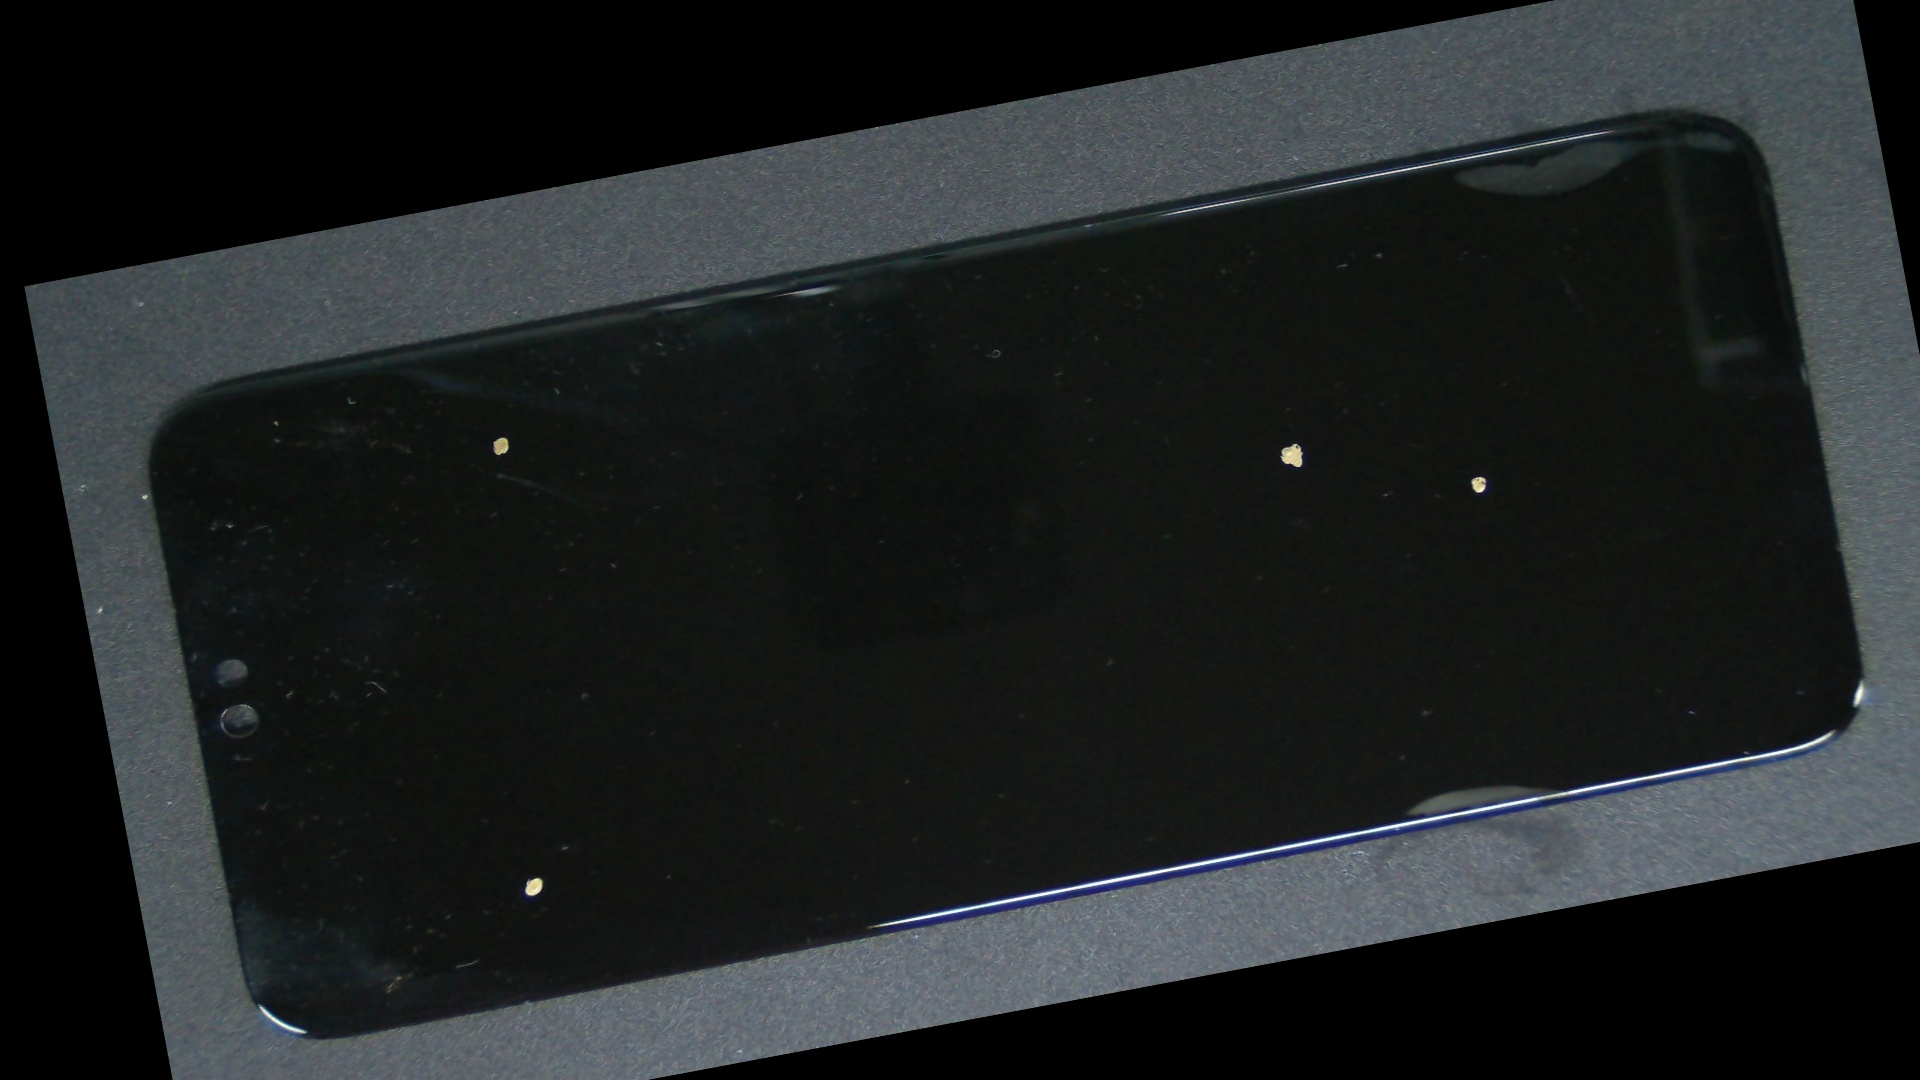oil: (749, 169, 1920, 828), (659, 141, 1920, 746), (276, 512, 757, 1080), (262, 281, 737, 593)
